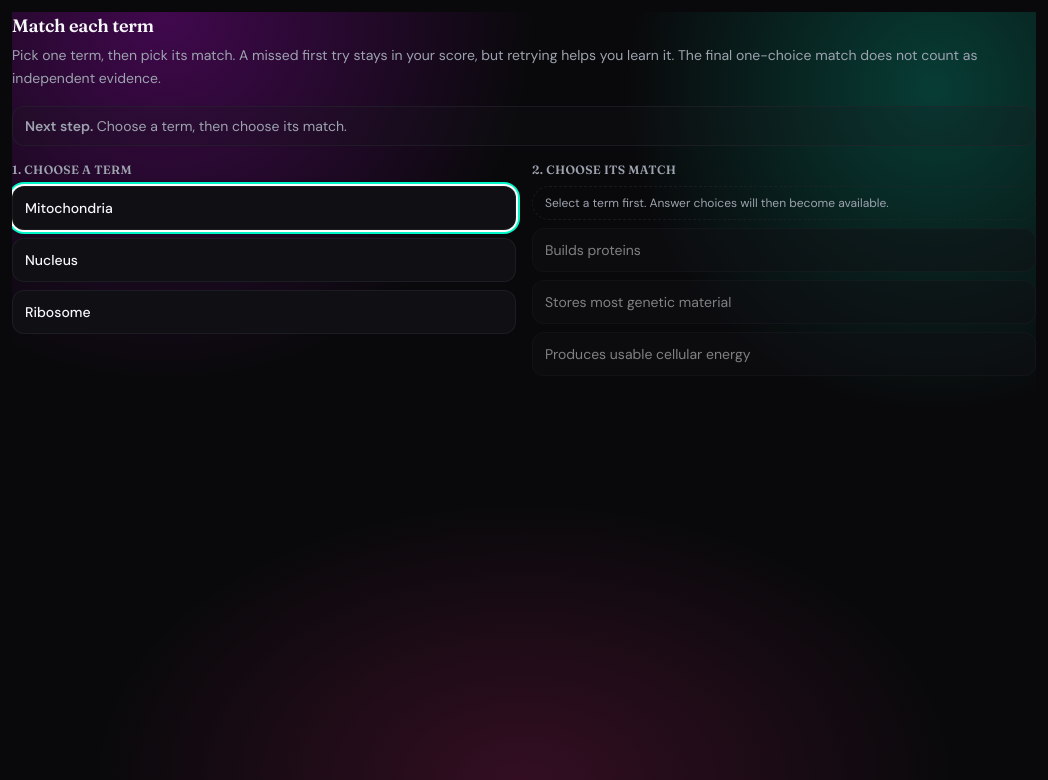
Test: RealMatchingGame › uses the injected order and requires a left selection before answers activate
Expected: the heading "Match each term" is shown, 12,14 -> 154,37
Expected: the buttons read "Builds proteins", "Stores most genetic material", "Produces usable cellular energy", in this order, 532,228 -> 1036,272; 532,280 -> 1036,324; 532,332 -> 1036,376
Click the button "Mitochondria": (69, 208) 12,186 -> 516,230
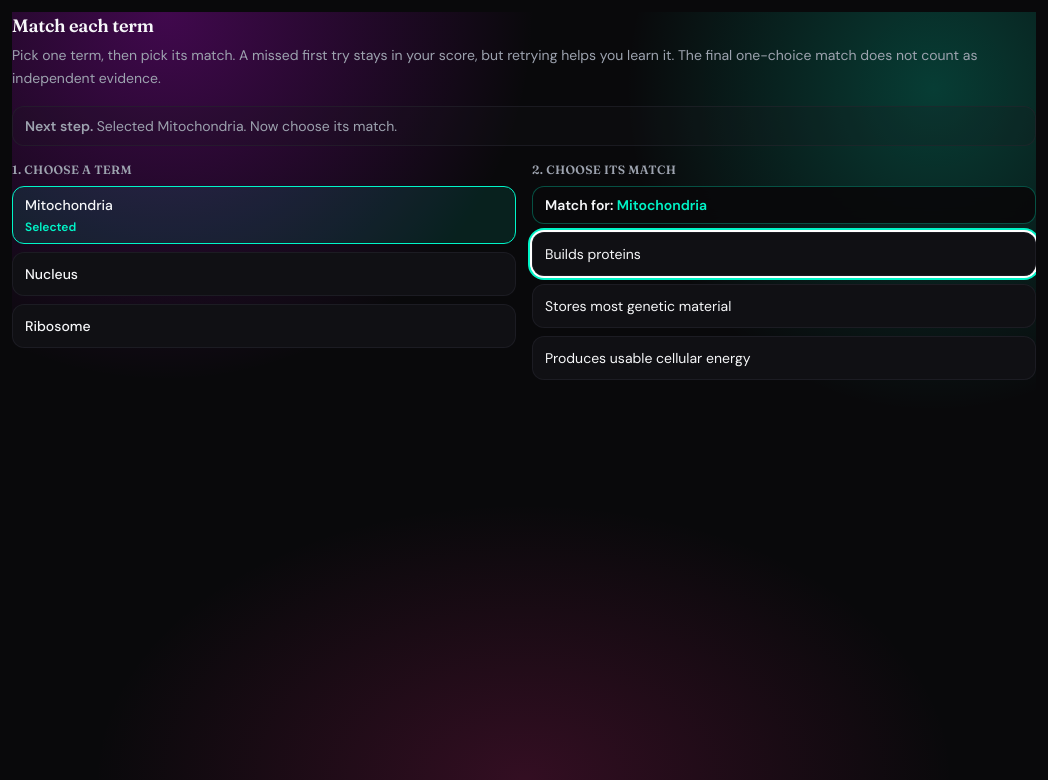
Expected: the text "Selected" is shown, 25,219 -> 76,235
Expected: the button "Builds proteins" is enabled, 532,232 -> 1036,276
Expected: the button "Stores most genetic material" is enabled, 532,284 -> 1036,328
